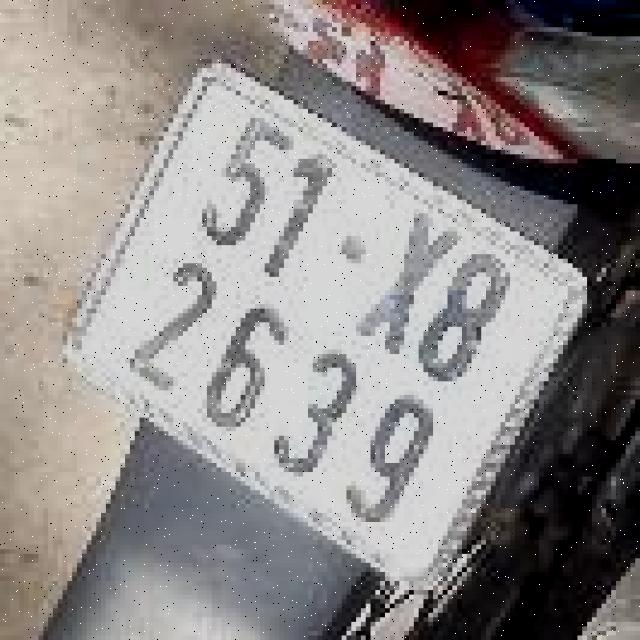1: (242, 128, 365, 294)
2: (97, 239, 249, 415)
3: (256, 333, 385, 492)
5: (172, 99, 310, 262)
6: (181, 286, 313, 450)
8: (393, 230, 542, 407)
9: (330, 382, 464, 543)
X: (340, 192, 490, 373)
